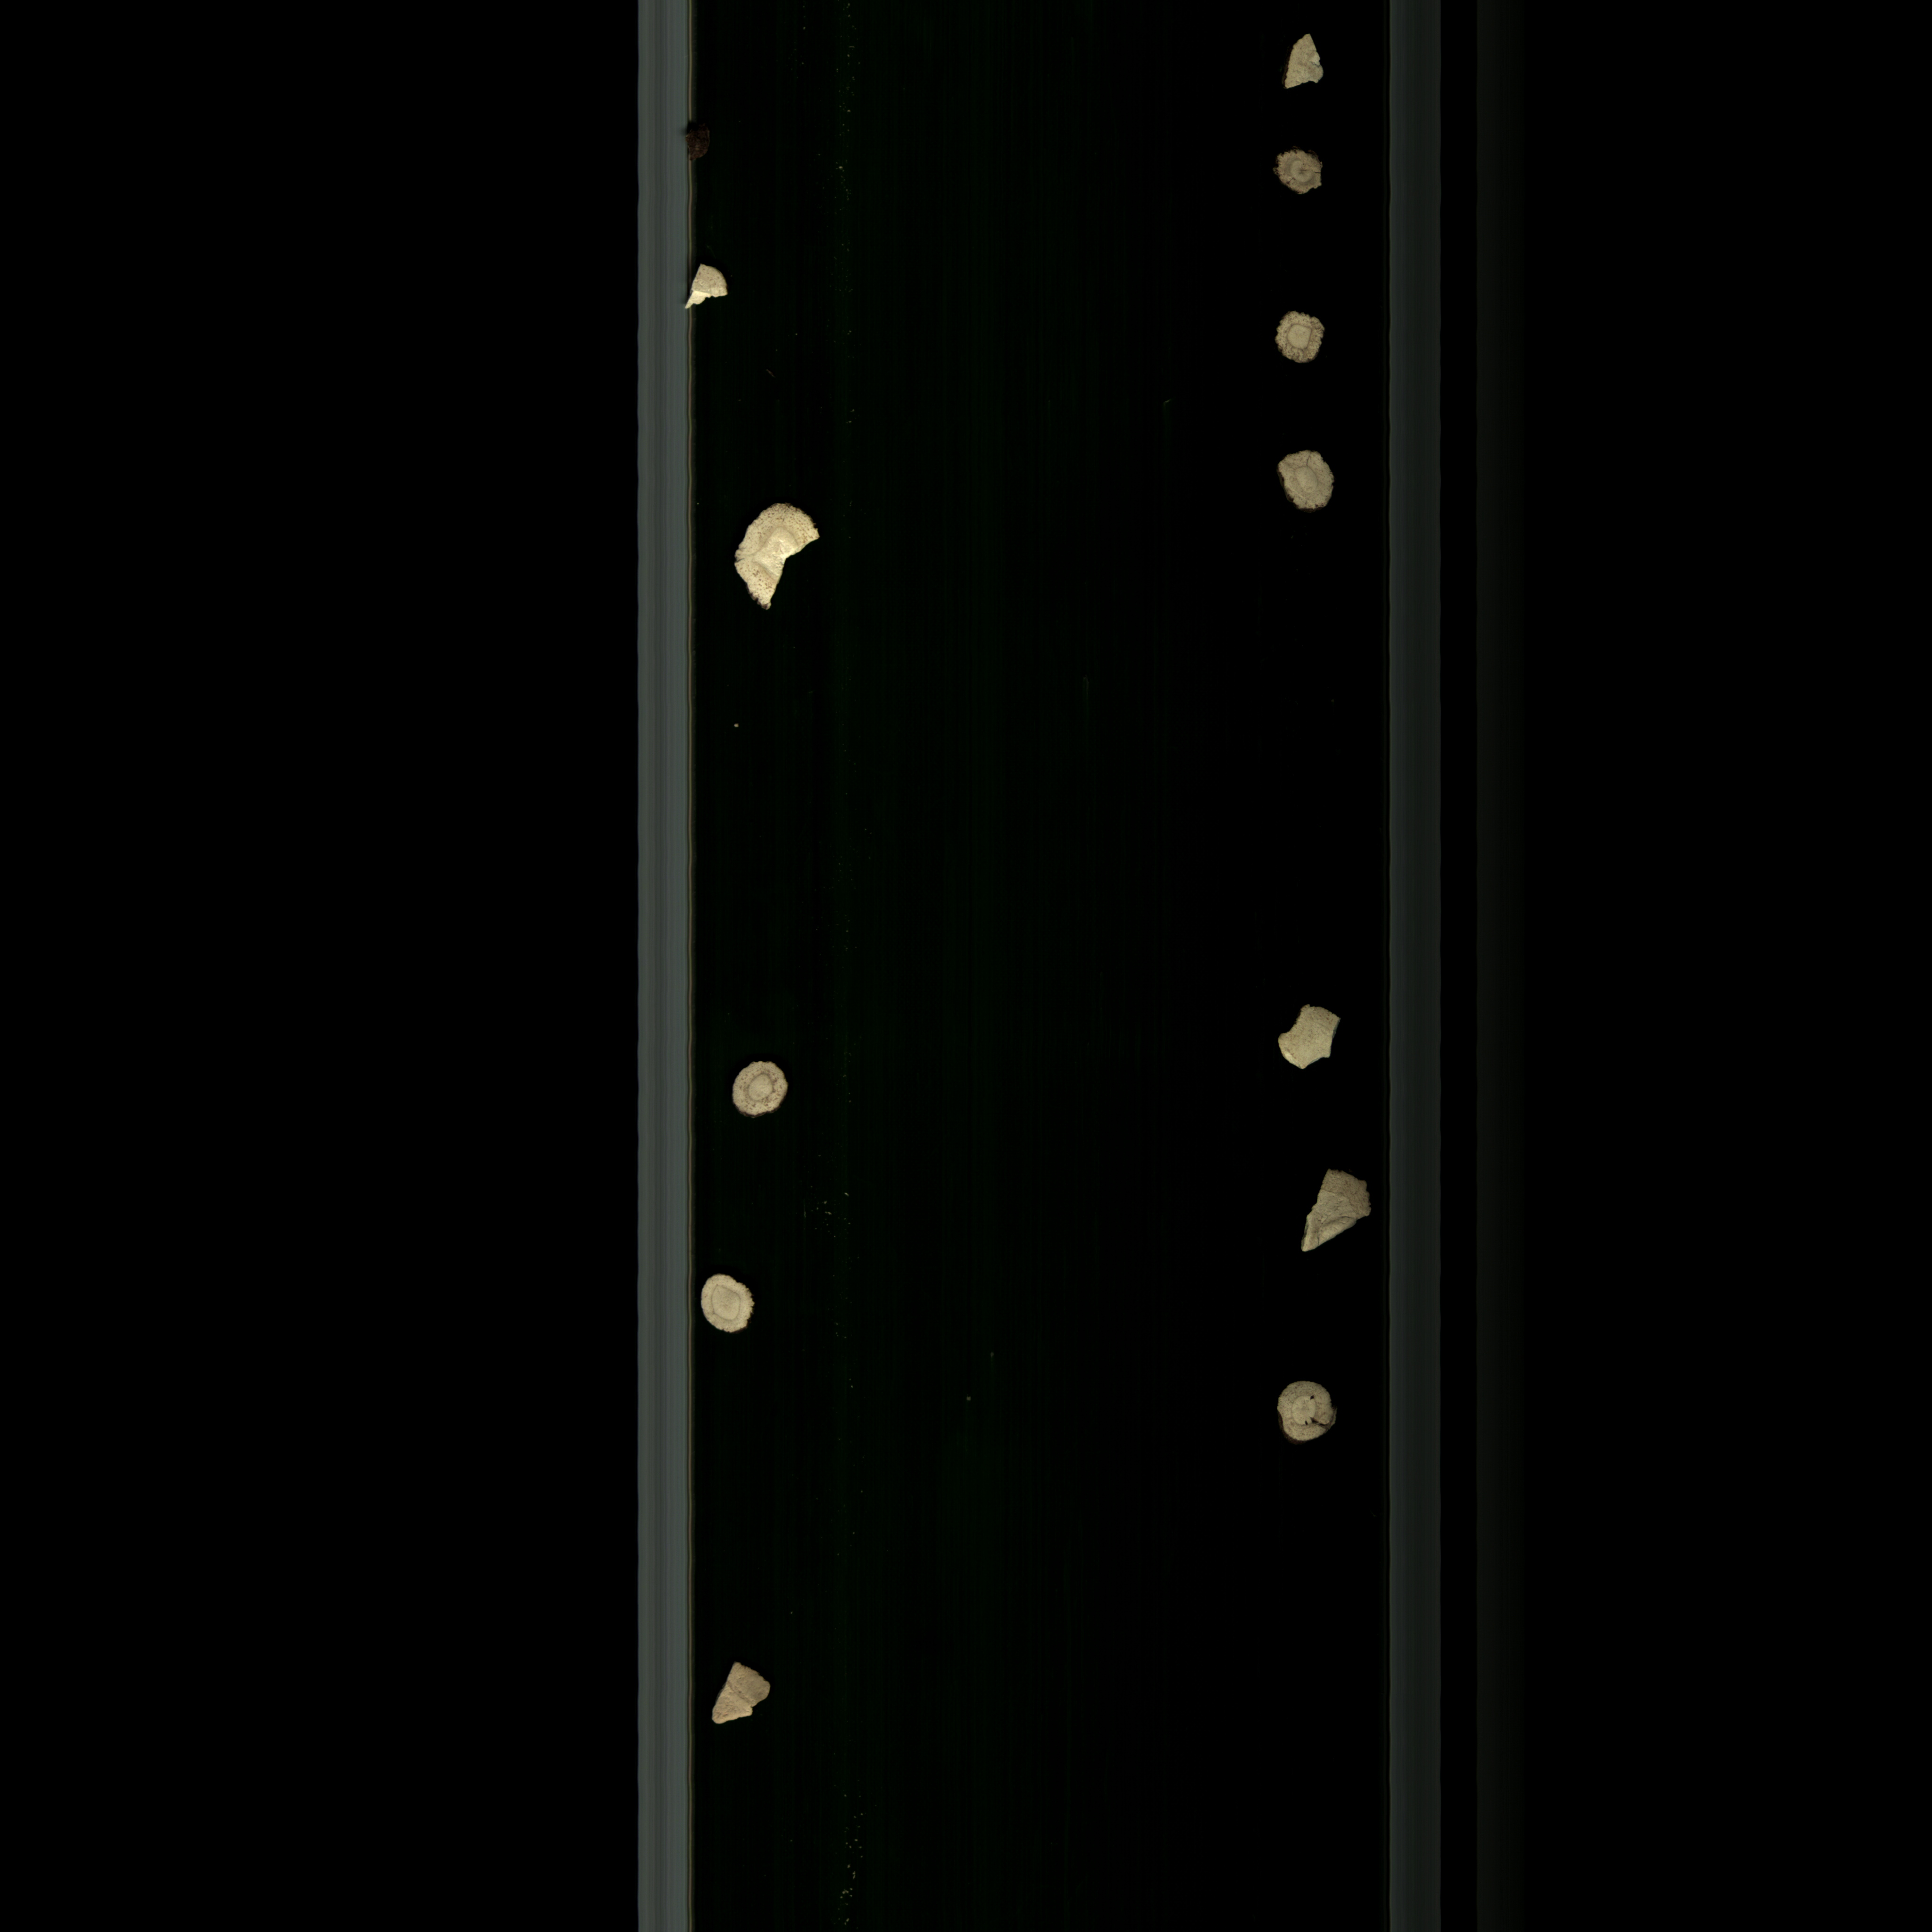debris: (725, 495, 828, 617), (1265, 993, 1348, 1077)
distortion: (1270, 446, 1350, 524)
dreg: (1288, 1161, 1384, 1269), (695, 1651, 782, 1741), (679, 258, 741, 320), (1284, 23, 1329, 103)
hole: (1260, 1376, 1355, 1451)
moldy: (1270, 301, 1336, 372), (1270, 145, 1330, 207)
